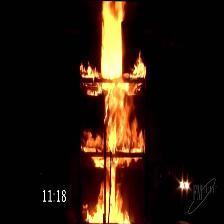fire: (92, 2, 134, 222)
